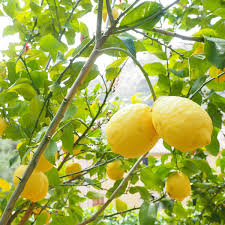Lemon: (101, 97, 161, 165), (152, 99, 209, 151)
